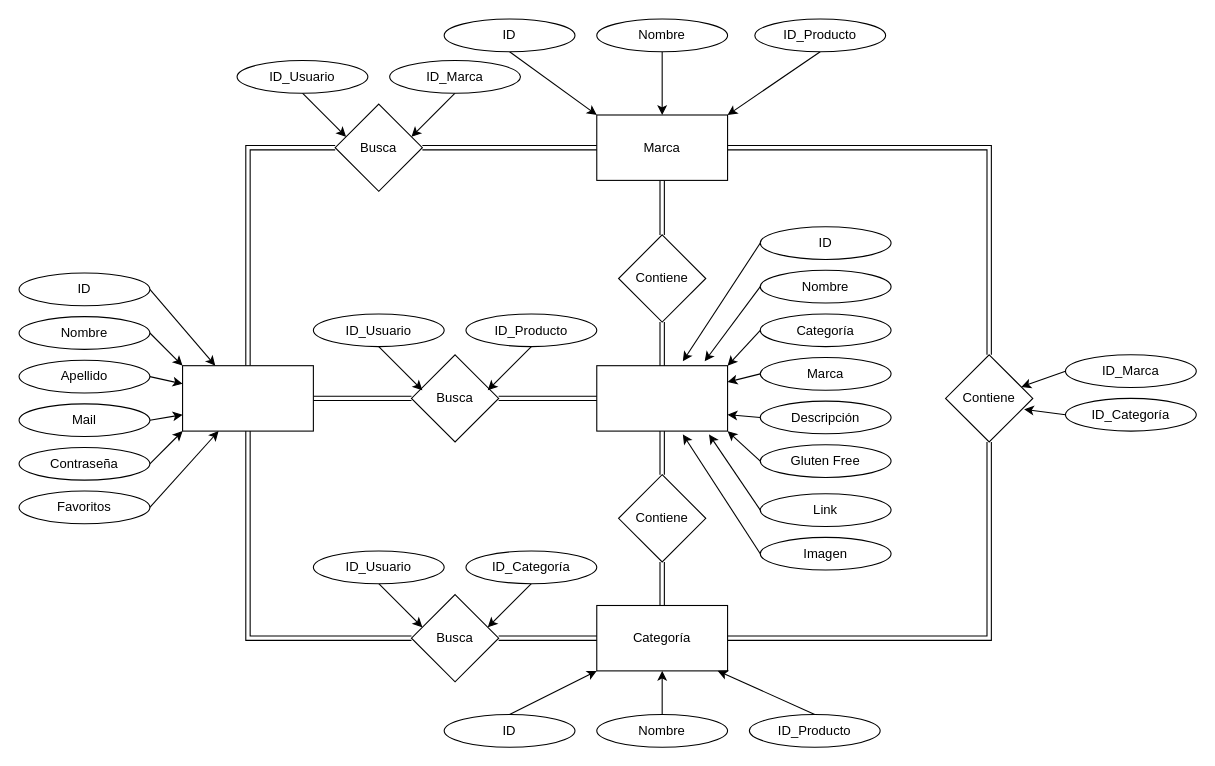
This 1215x766 diagram has some shape labels left out. The centre of each missing label's shape, as x and y in pixels:
"Producto" belongs at [662,398].
"Usuario" belongs at [247,398].
